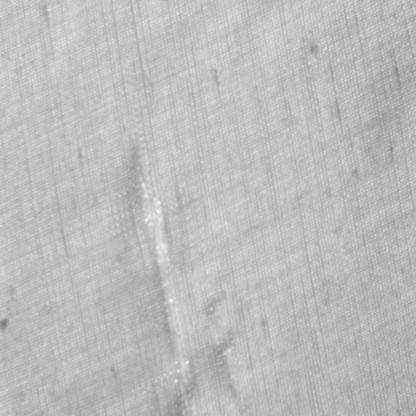thread error: (126, 130, 200, 415)
